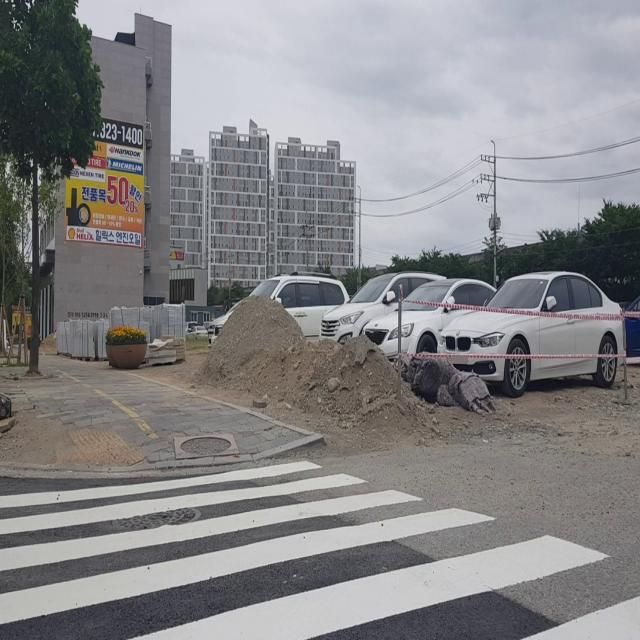횡단보도: (3, 457, 637, 635)
